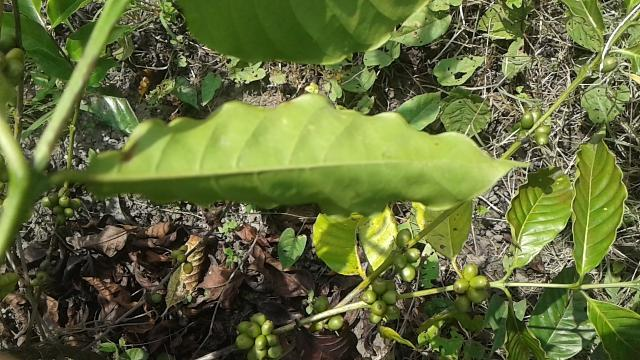rust_level_1: (77, 90, 526, 219)
